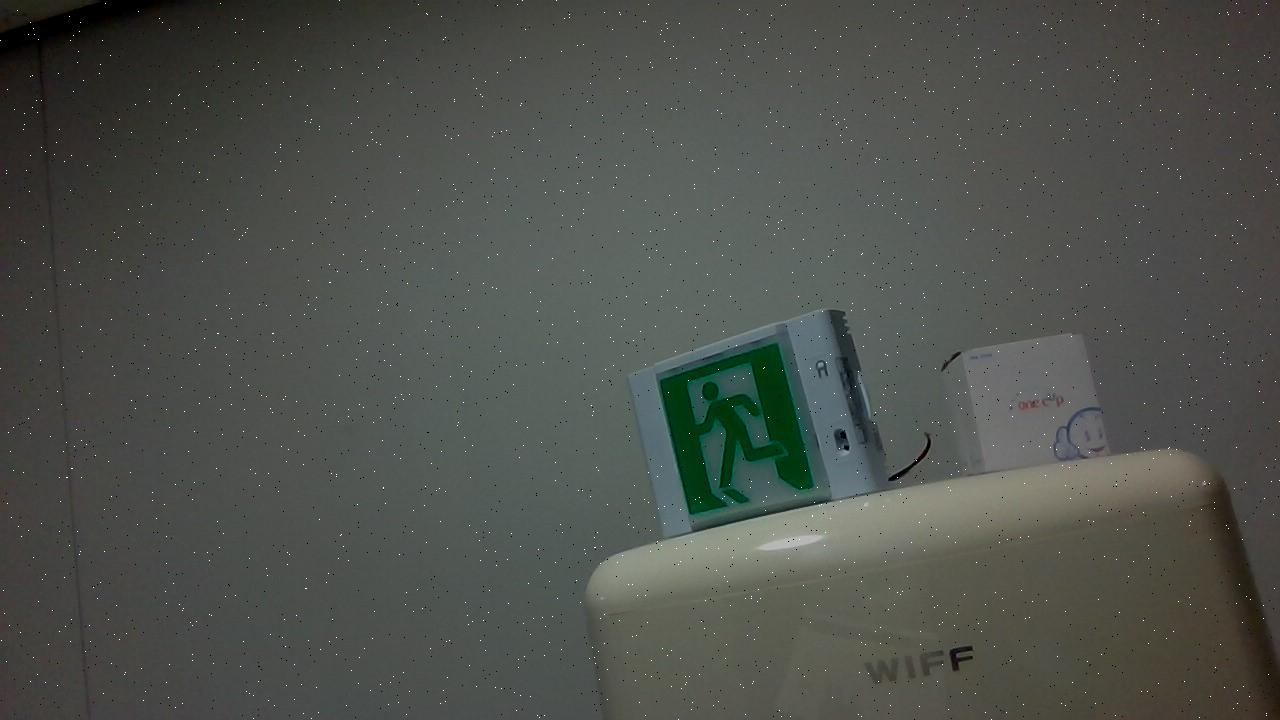emergency_exit: (627, 307, 889, 539), (939, 331, 1112, 476)
